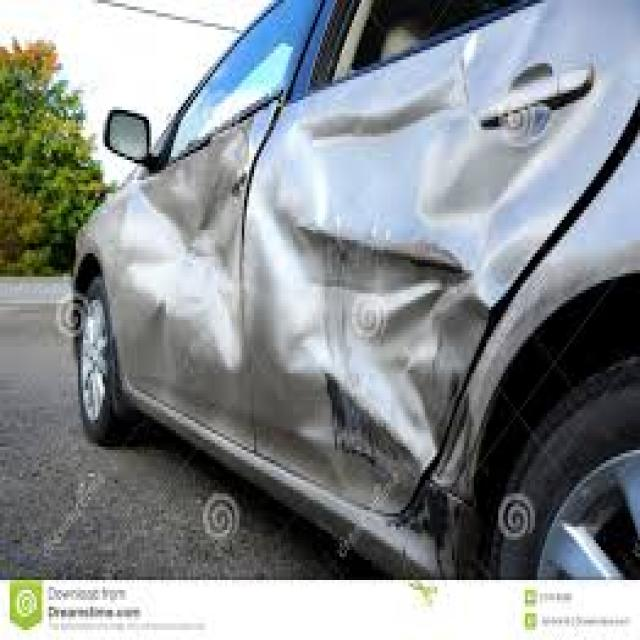moderate: (169, 124, 530, 512)
